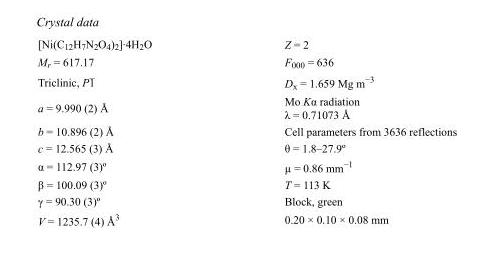table: (37, 37, 456, 226)
table column: (217, 37, 456, 226), (37, 37, 217, 226)
table row: (37, 92, 456, 122), (37, 71, 456, 92), (37, 156, 456, 175), (37, 53, 456, 71), (37, 122, 456, 139), (37, 139, 456, 156), (37, 175, 456, 192), (37, 192, 456, 209), (37, 209, 456, 226), (37, 37, 456, 53)
